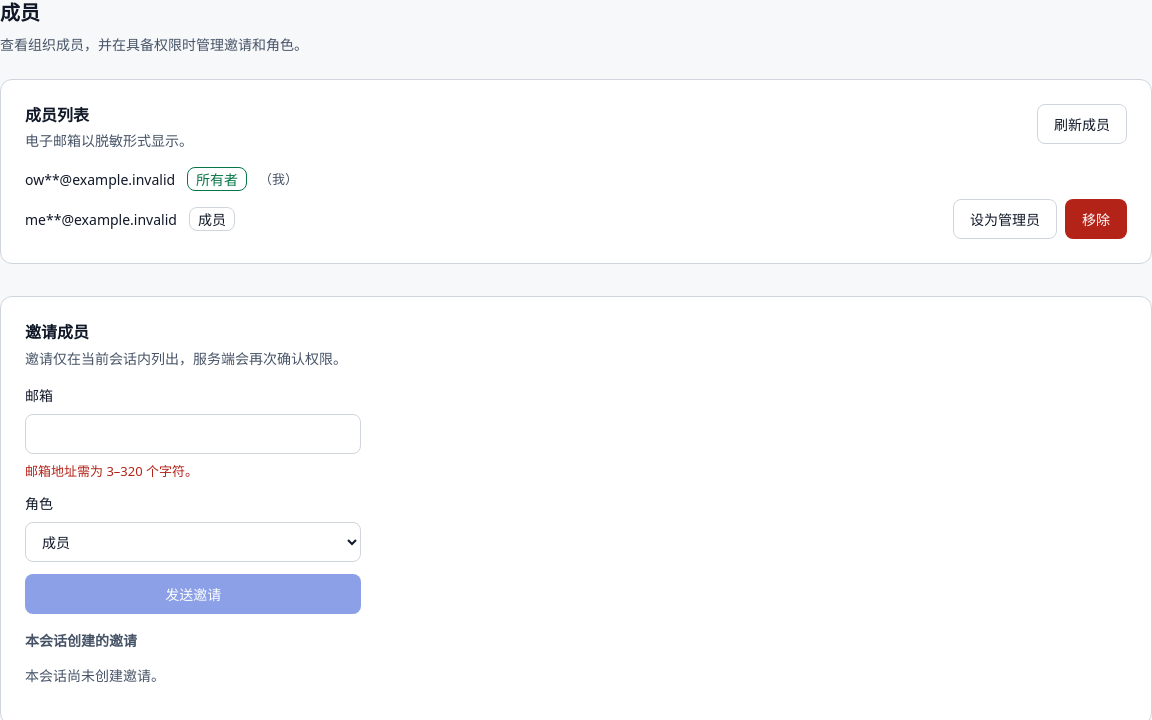
Test case: B3 members and invitations (7B) › invites a member and renders the pending invitation row
Check: the list with test id "member-list" is shown, box [25,167,1127,239]
Type "new@example.invalid" into the field with test id "invite-email-input". click: coordinates (193, 434)
box: [25,414,361,454]
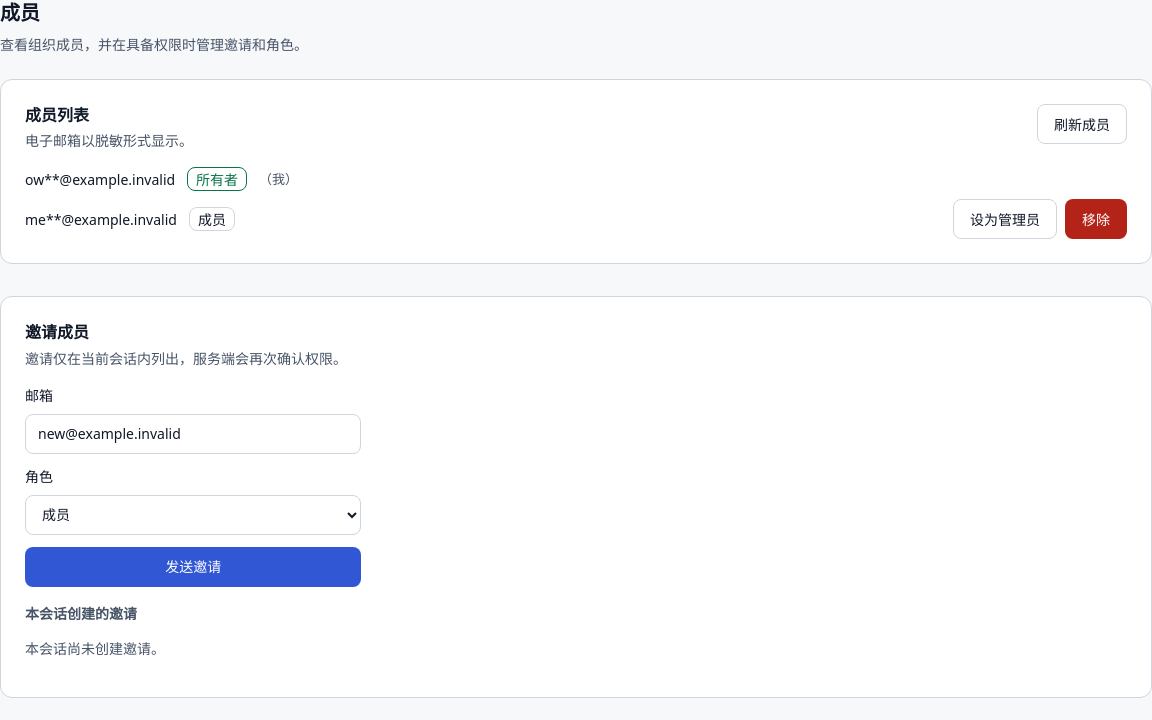
Select "管理员" in the dropdown with test id "invite-role-select". click: coordinates (193, 515)
box: [25,495,361,535]
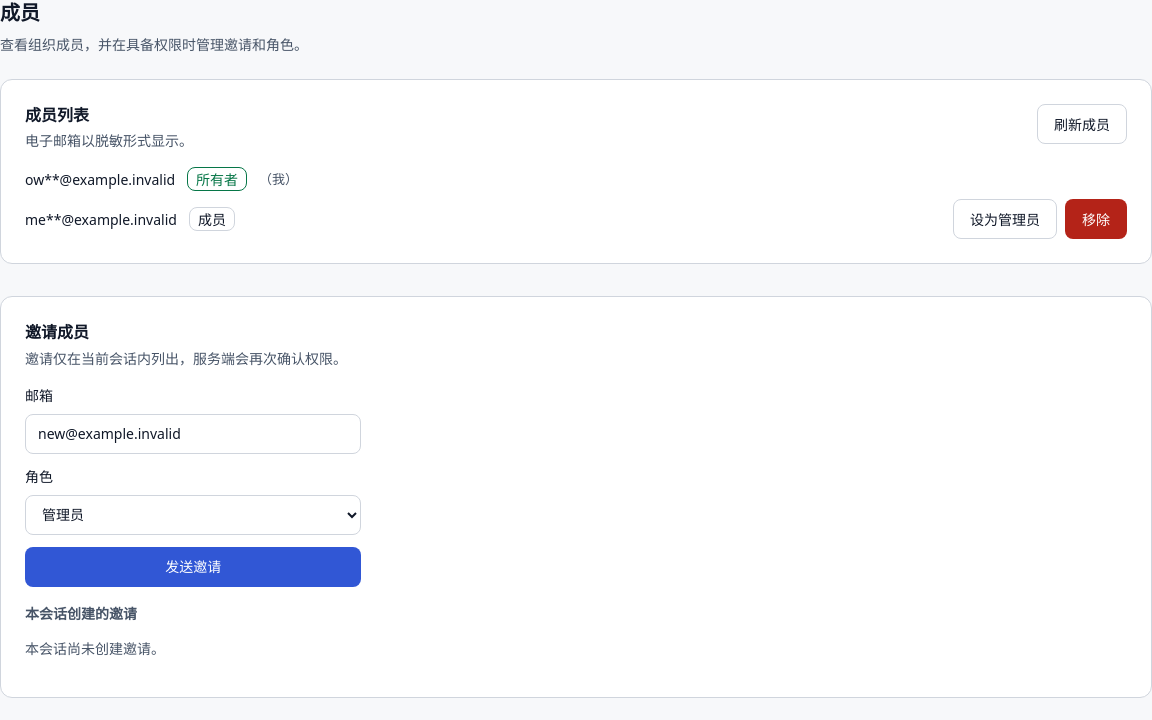
Click the button with test id "invite-submit". click: coordinates (193, 567)
box: [25,547,361,587]
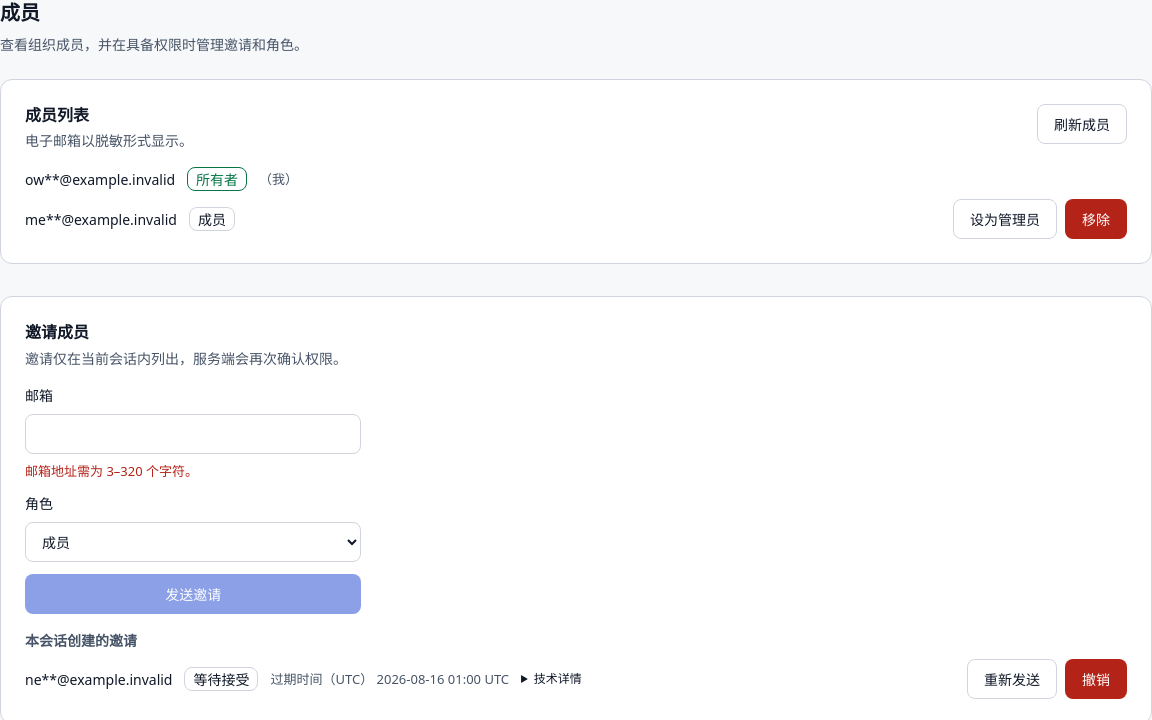
Check: the list item with test id "invitation-row" is shown, box [25,659,1127,699]
Check: the text "ne**@example.invalid" is shown, box [25,669,172,690]
